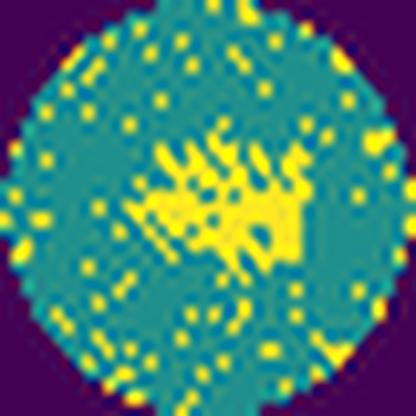Center: (120, 114, 316, 286)
